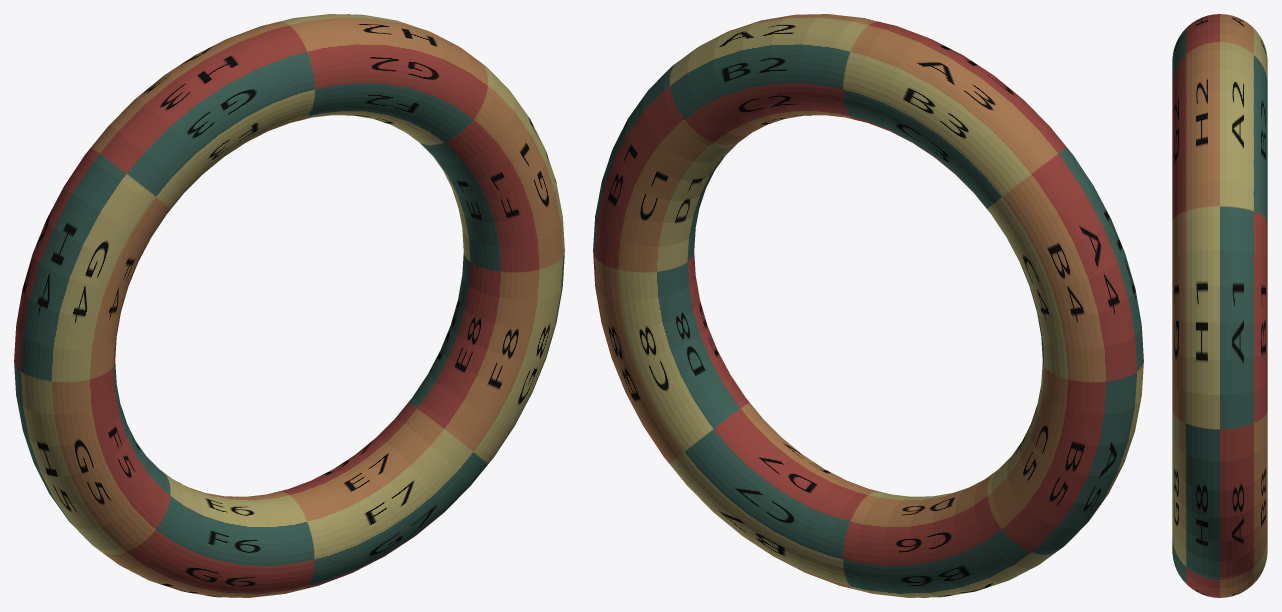
The model's file is texture_torus_R25_r12.glb.
The picture shows the model from 3 angles, left to right: view 1: azimuth 30°, elevation 25°; view 2: azimuth 150°, elevation 25°; view 3: azimuth 270°, elevation 25°; orthographic projection. The views are drawn at different scales.
Parts seen in each view (by area): view 1: world; view 2: world; view 3: world.
Boxes of the visible parts, <box> form: world: <box>14,14,564,597</box>; world: <box>593,14,1143,597</box>; world: <box>1172,14,1267,597</box>.
Size of the model in its own units: 31.87 by 31.8 by 5.19.
1 material, 1 textured.
